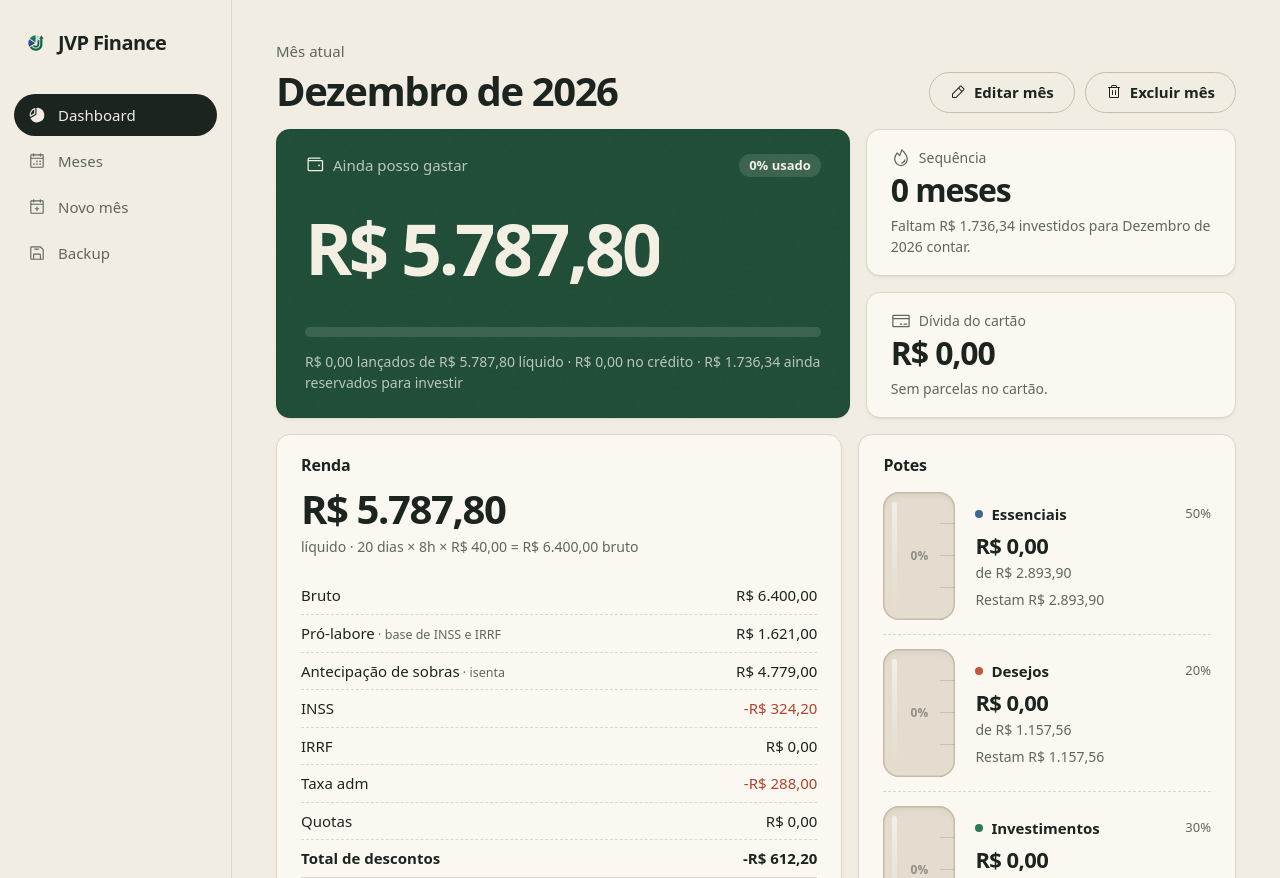
Test: excluir mês pede confirmação
Click the button "Excluir mês".
click(1160, 92)  # box [1085, 72, 1236, 112]
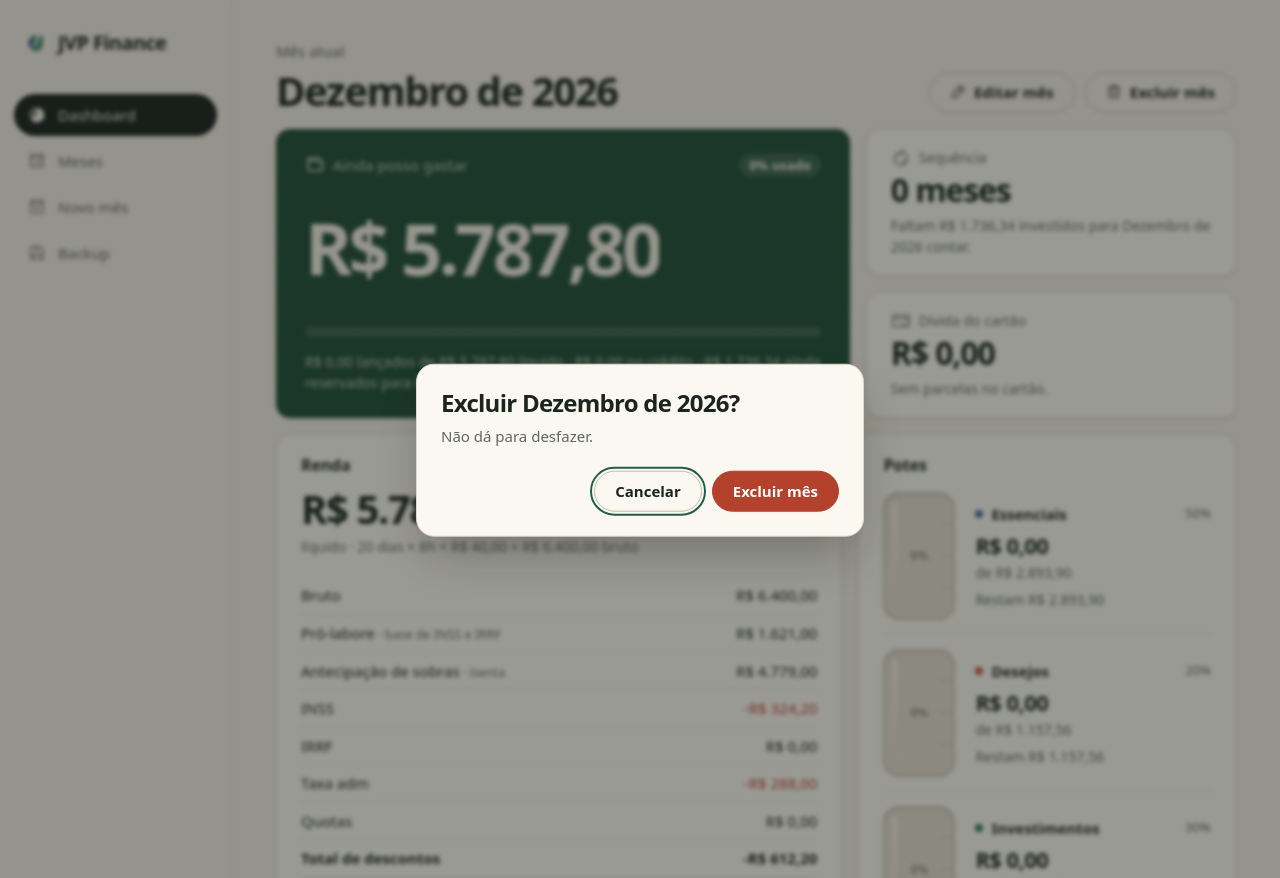
Click the button "Cancelar".
click(648, 491)  # box [594, 471, 702, 511]
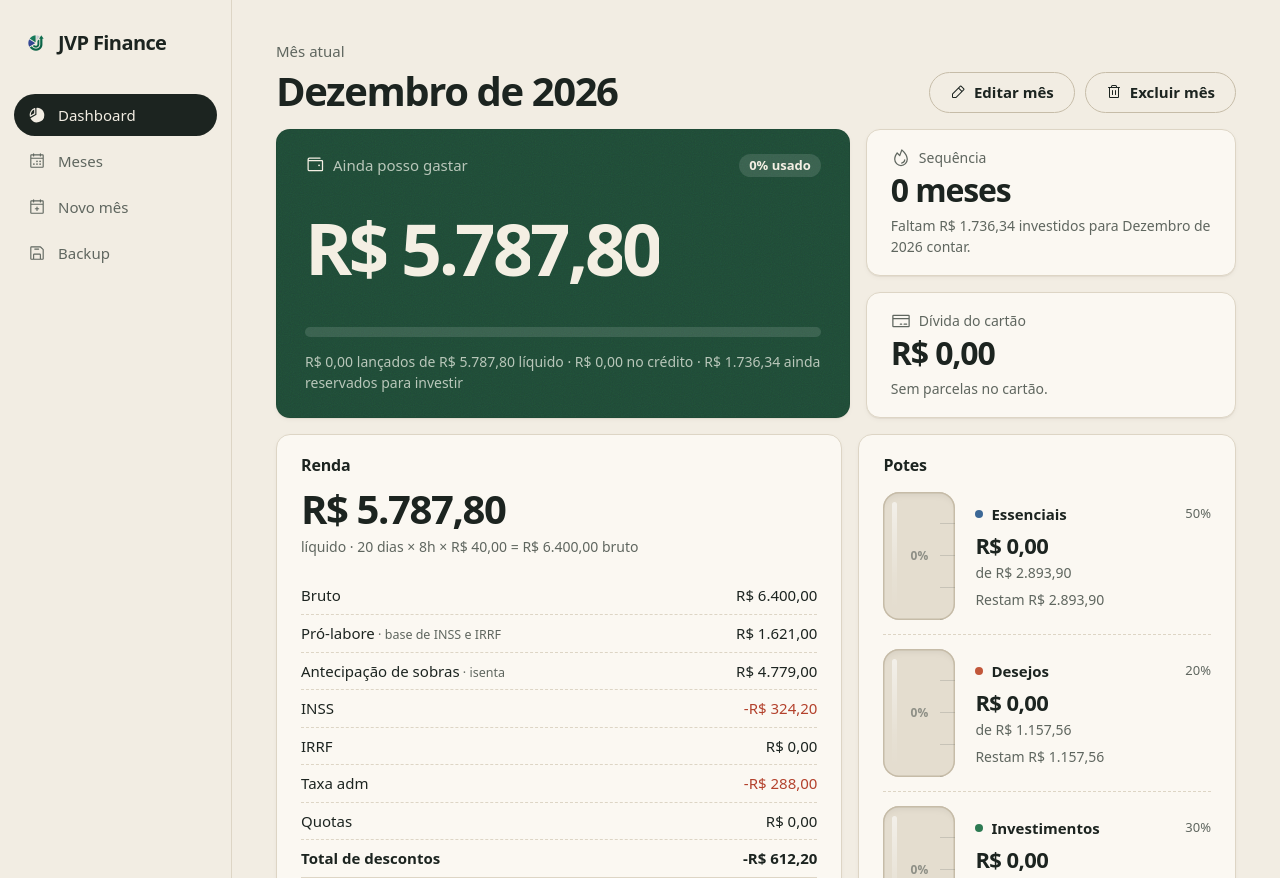
Expected: the heading "Dezembro de 2026" is shown, [276, 68, 618, 112]
Expected: the dialog is gone
Click the button "Excluir mês".
click(1160, 92)  # box [1085, 72, 1236, 112]
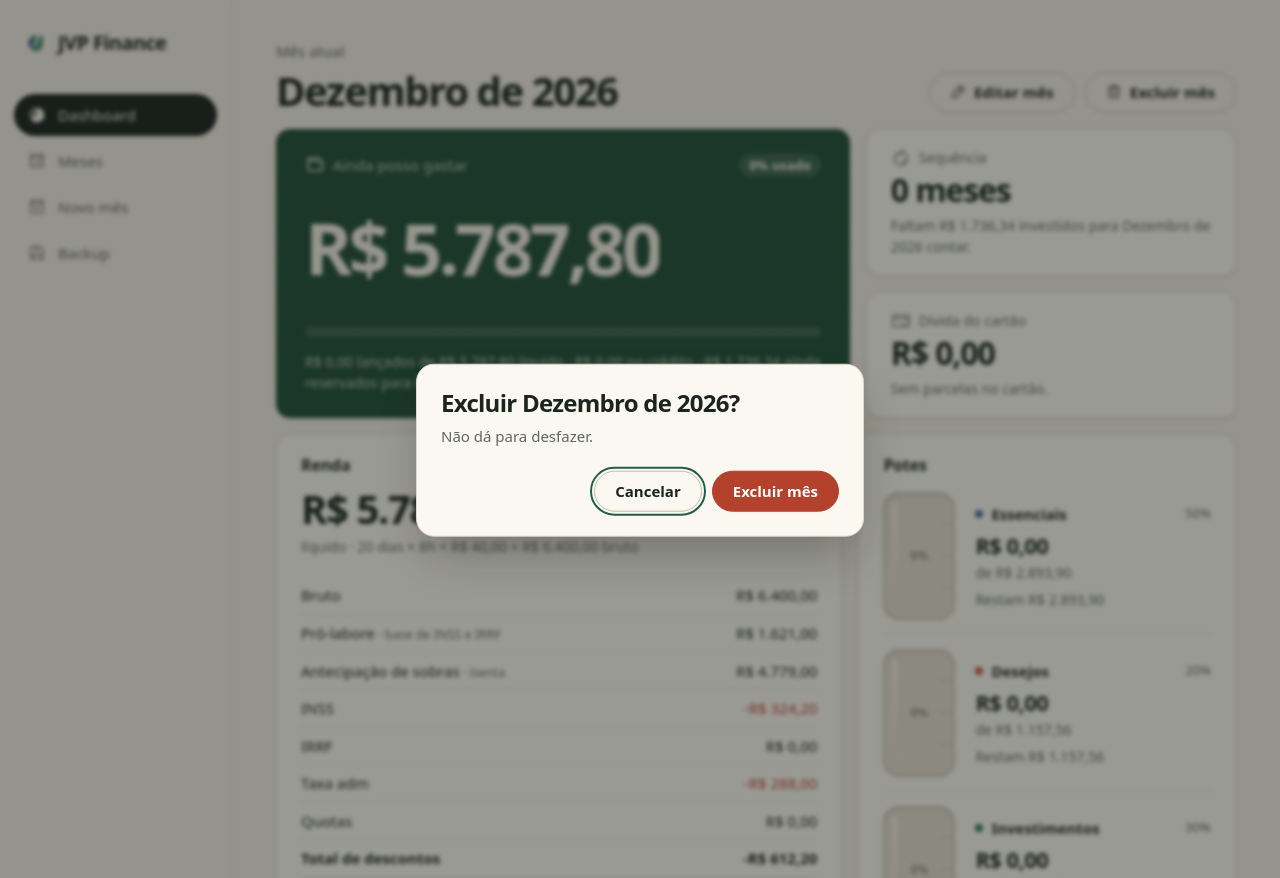
Click the button "Excluir mês".
click(775, 491)  # box [712, 471, 839, 511]
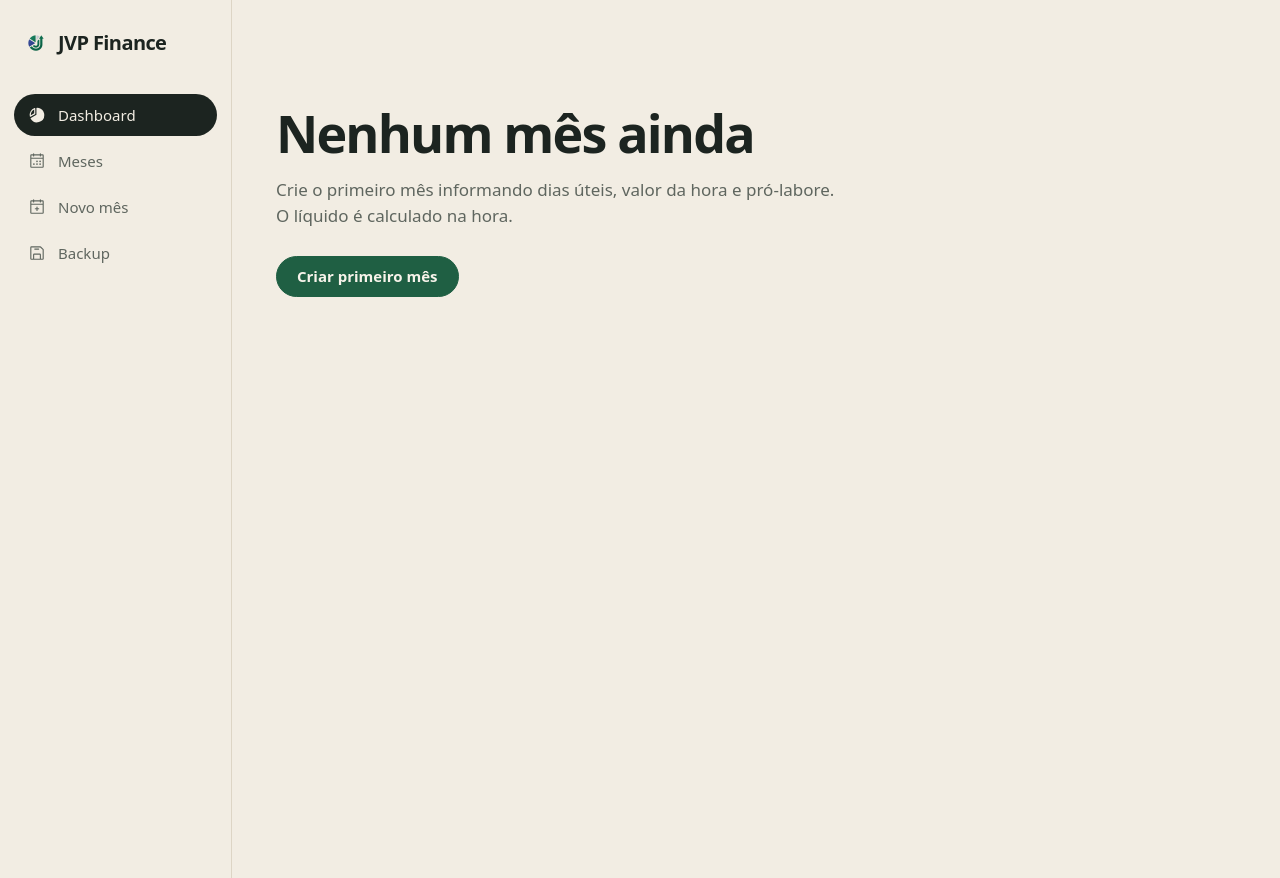
Expected: the heading "Nenhum mês ainda" is shown, [276, 97, 754, 168]
